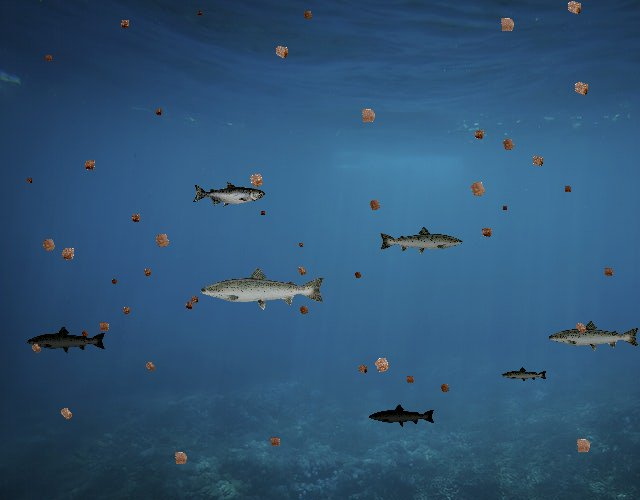Fish: (198, 265, 327, 311), (548, 319, 640, 353), (378, 225, 464, 256), (27, 326, 108, 355), (192, 181, 265, 207), (368, 404, 436, 428), (502, 367, 549, 384)
Pellet: (242, 167, 270, 195), (268, 39, 295, 66), (54, 401, 79, 426), (23, 175, 35, 187)
